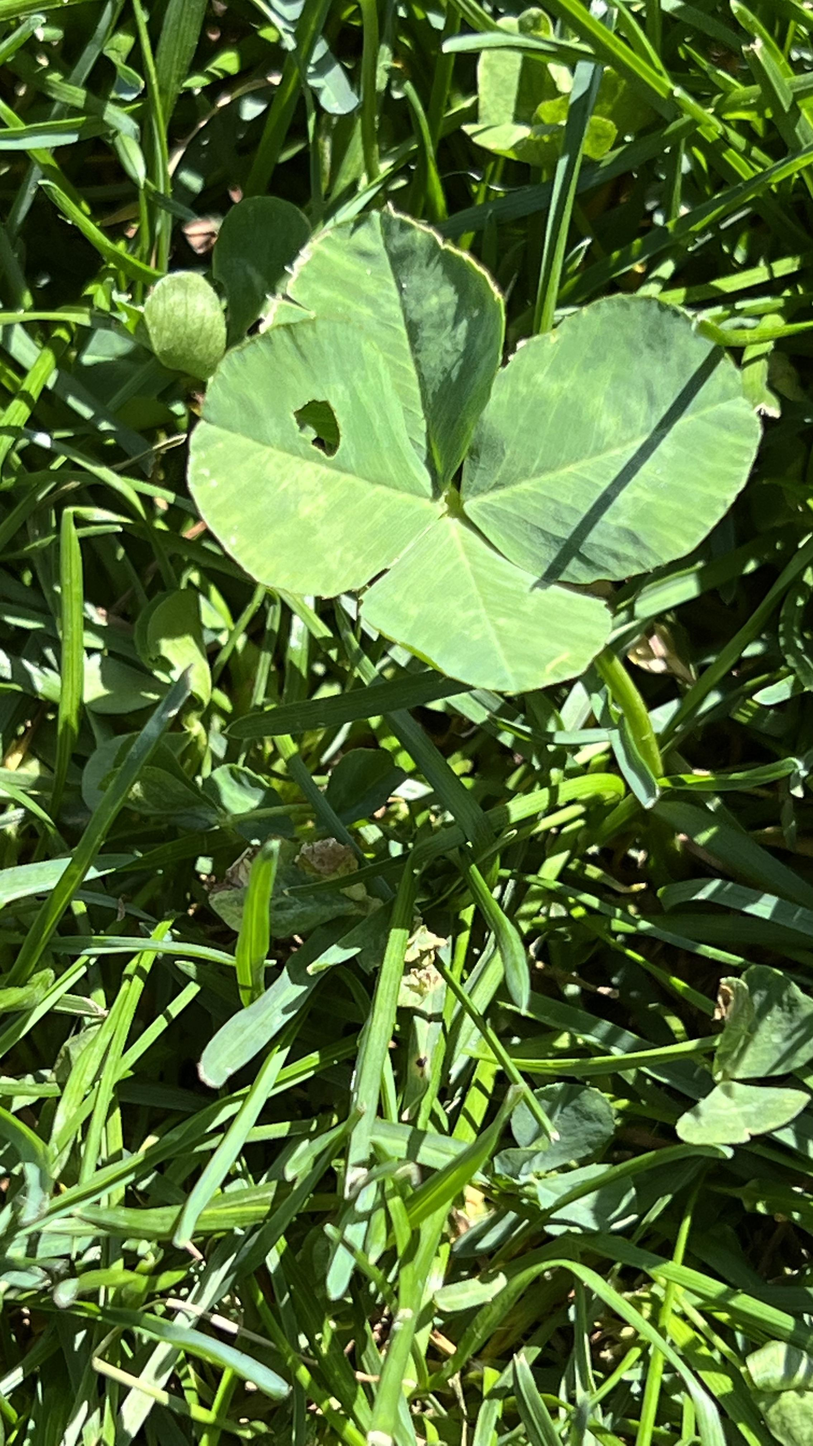4-Leaf-Clovers: (194, 197, 759, 692)
